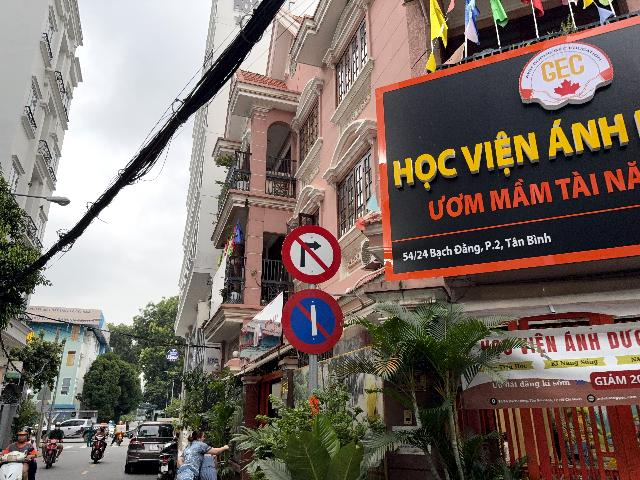cam-do-xe-ngay-le: (281, 288, 344, 355)
cam-re-phai: (281, 224, 342, 284)
